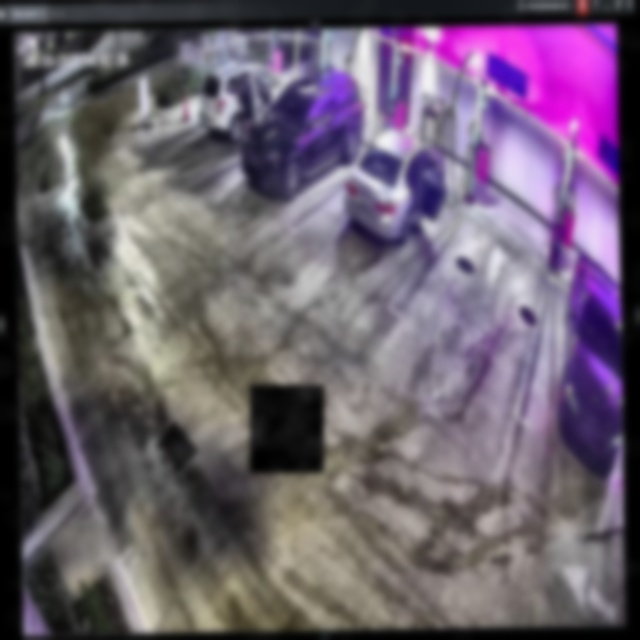Car: (244, 68, 366, 198), (342, 127, 446, 248)
